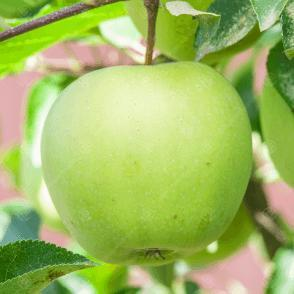apple: (37, 62, 250, 266)
